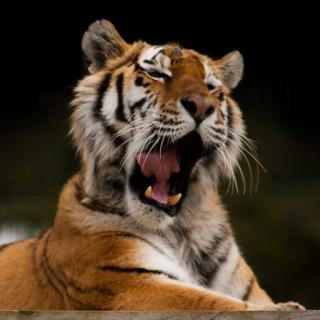Tiger: (0, 15, 295, 320)
